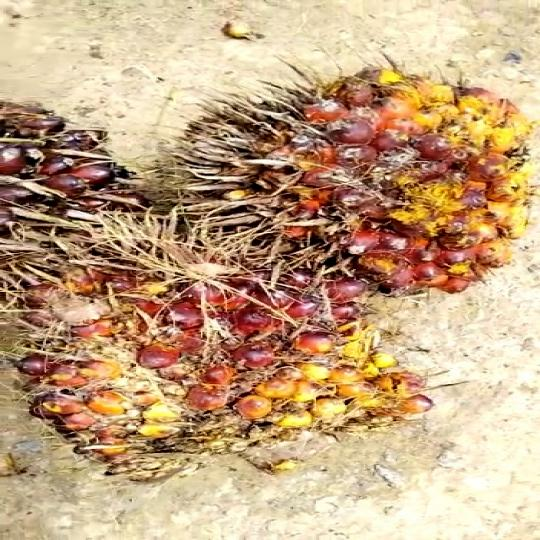masak: (0, 234, 458, 484), (157, 60, 540, 318)
